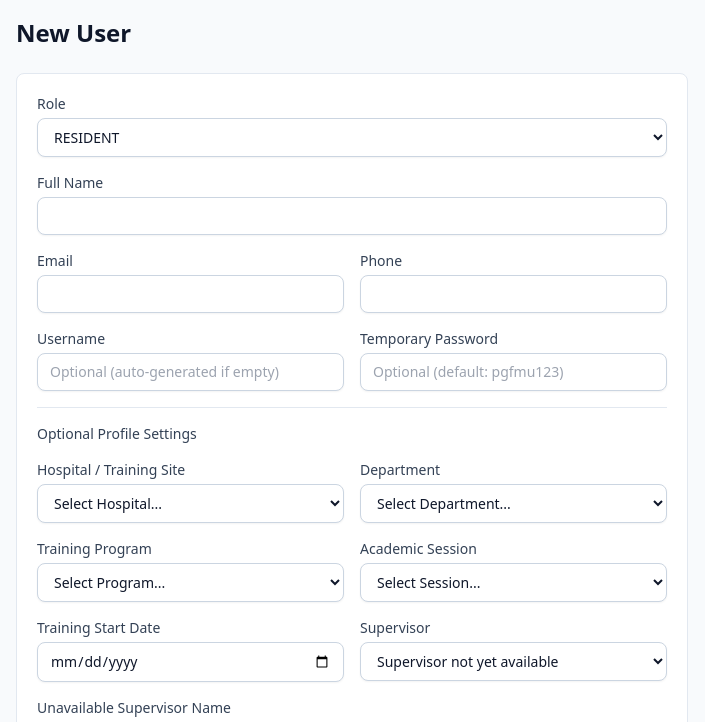
Scenario: disables repeated submission while a create request is pending
Type "Pending Person" into the field labelled "Full Name".
click(352, 216); type("Pending Person")  # box [37,197,667,235]
(page scrolled)
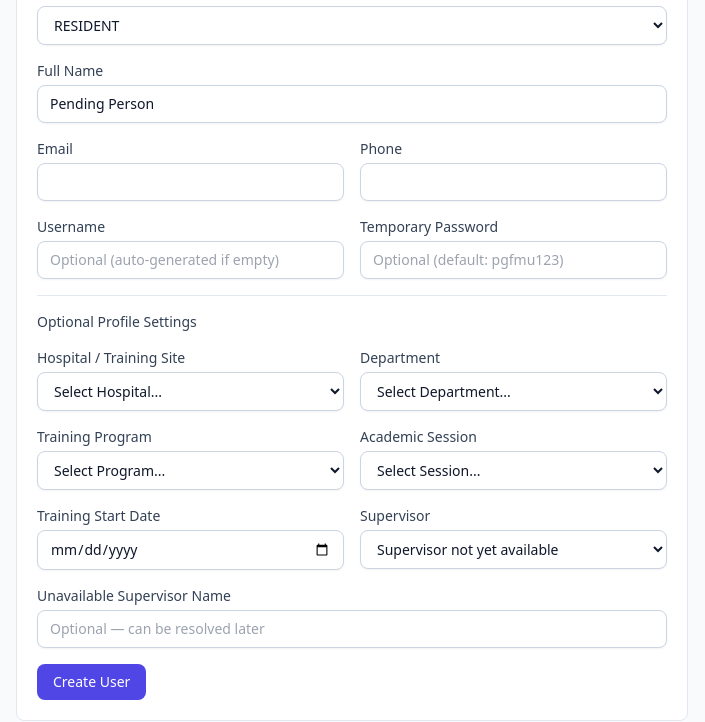
Click the button "Create User".
click(92, 682)  # box [37,664,146,700]
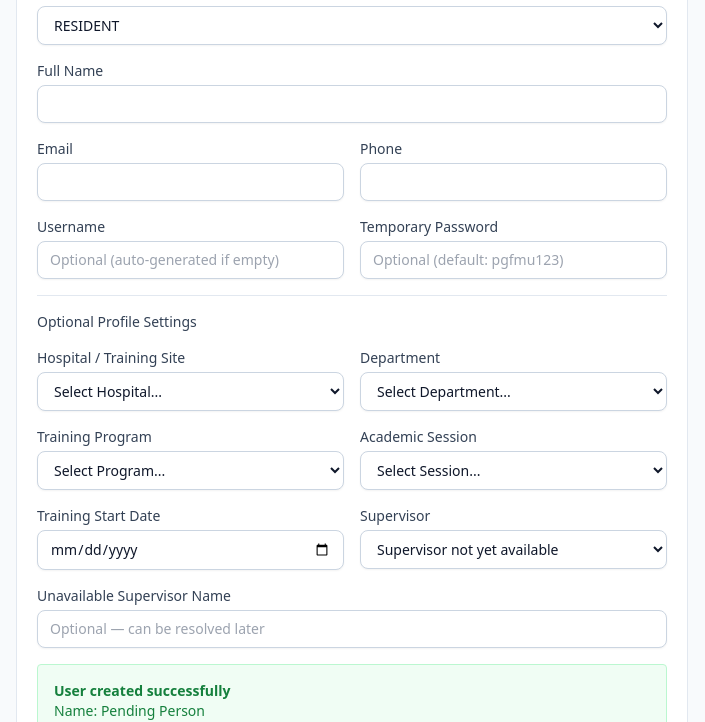
Now the text "User created successfully" is shown, box [54,681,230,700]
